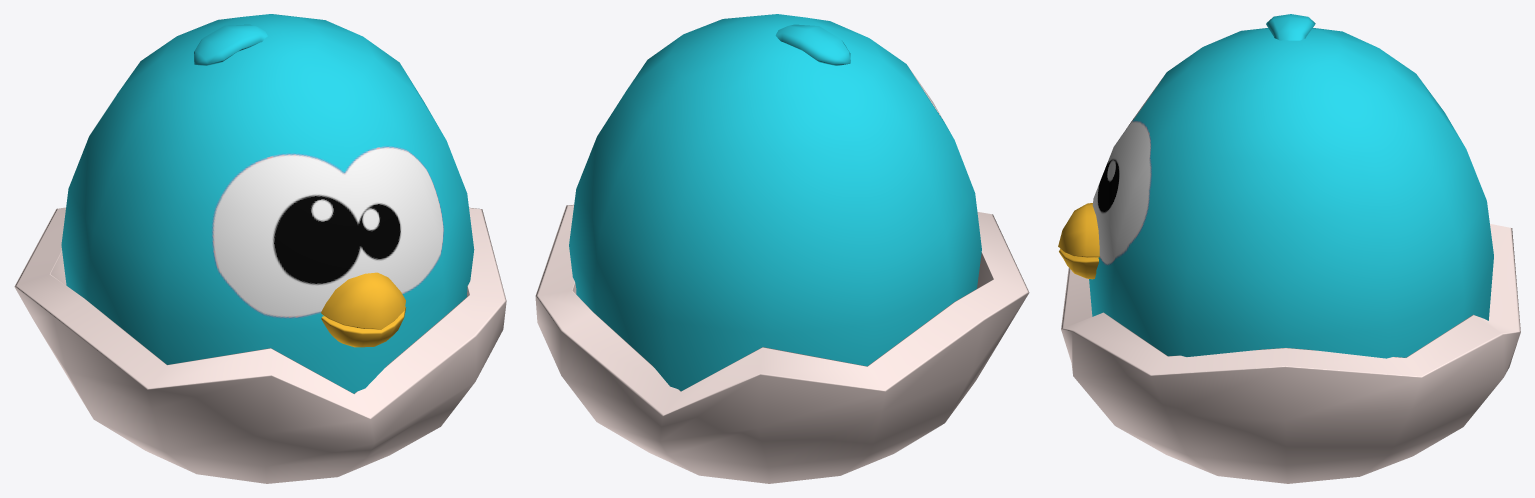
File: birdEgg2.fbx
3 views of the same model, side by side, from view 1: azimuth 30°, elevation 25°; view 2: azimuth 150°, elevation 25°; view 3: azimuth 270°, elevation 25° (orthographic). The views are drawn at different scales.
Visible parts, largest first — view 1: birdEgg2; view 2: birdEgg2; view 3: birdEgg2.
Part boxes in pixels (x1,y1,x2,y2): birdEgg2: (14,14,506,483); birdEgg2: (535,14,1029,483); birdEgg2: (1058,14,1520,483).
Size of the model in its own units: 98.56 by 97.05 by 95.21.
